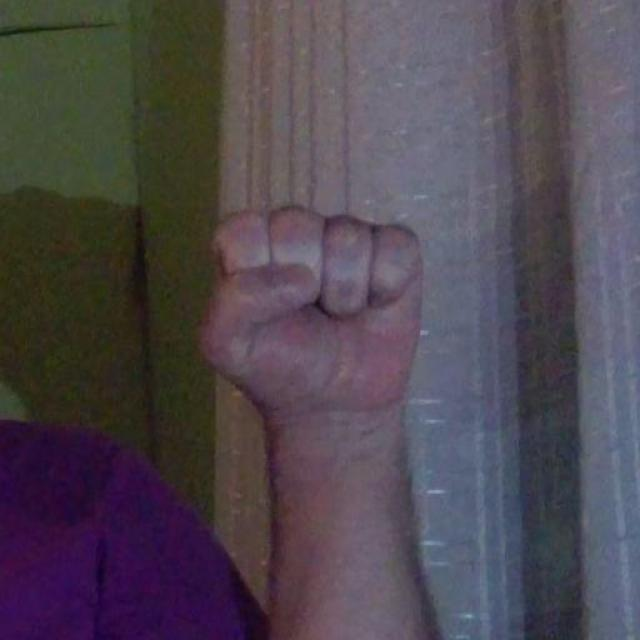hand: (195, 201, 424, 421)
